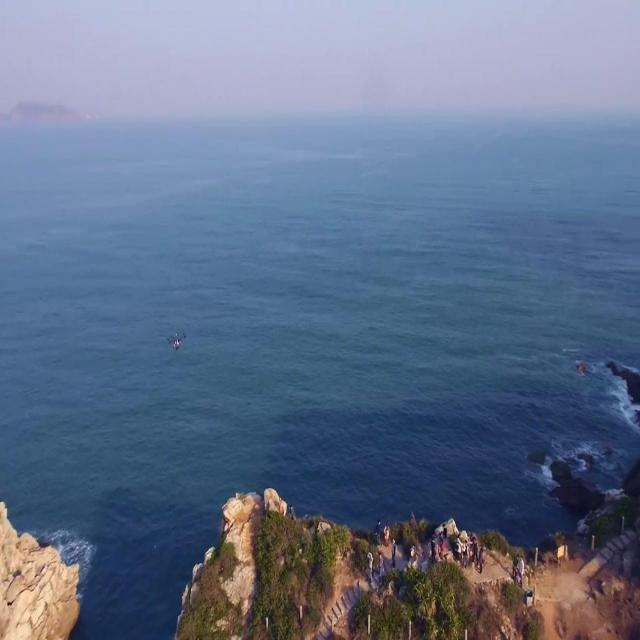UAV: (166, 333, 186, 351)
